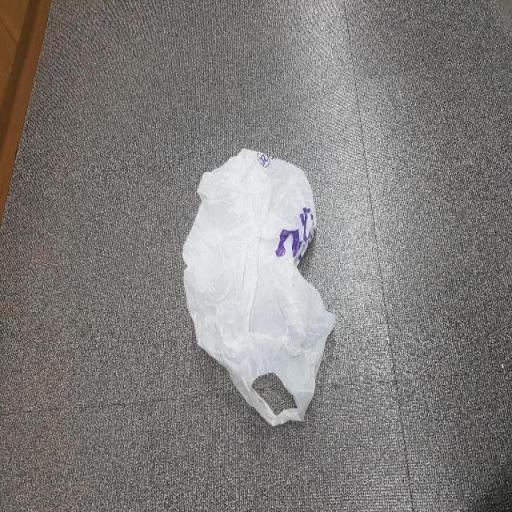plastic-bag: (180, 139, 337, 430)
